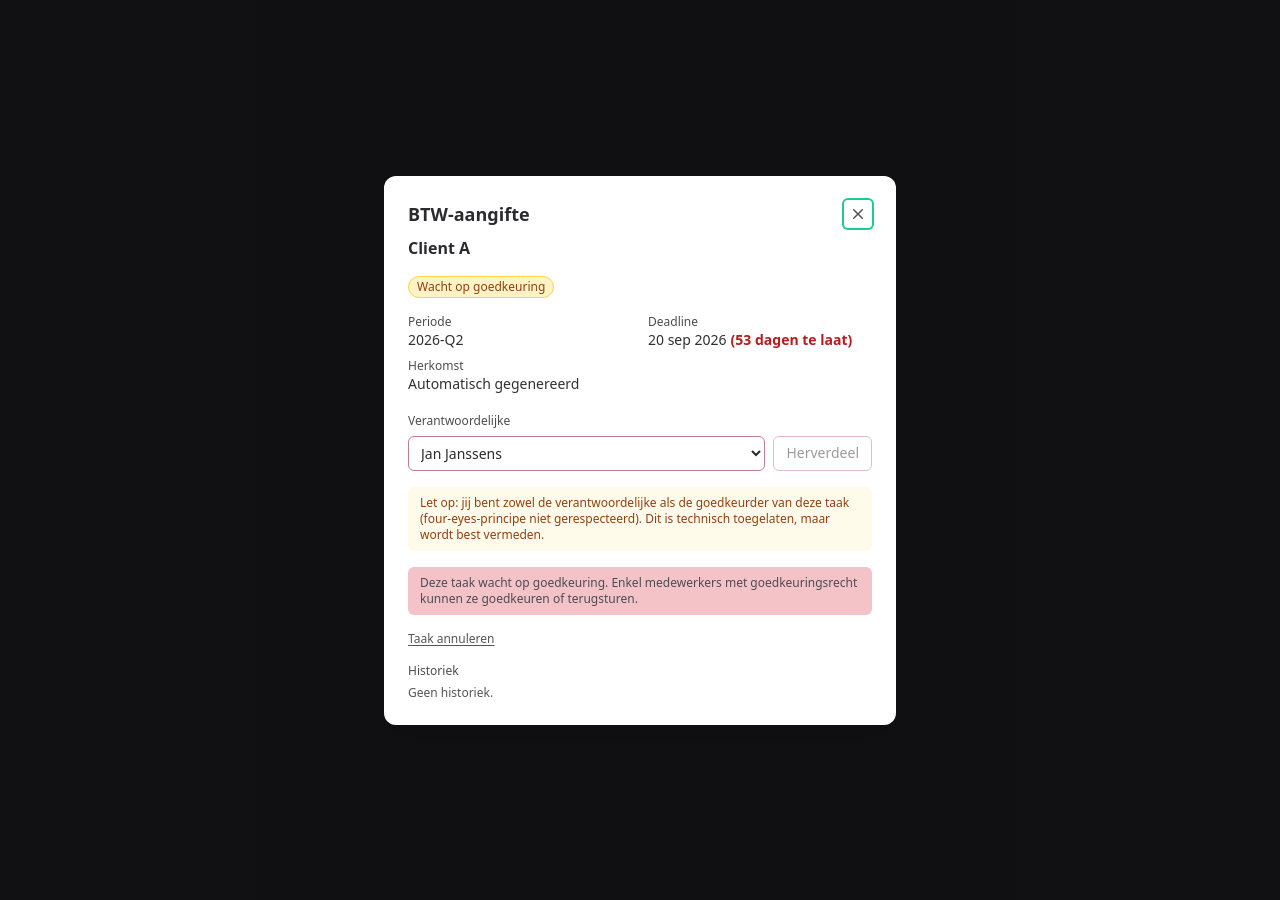
Test: TaskDetailModal — reassignment › disables the Herverdeel button until a different assignee is chosen
The image size is (1280, 900).
Later steps or results of the test are not shown.
Expected: the heading "BTW-aangifte" is shown, [408, 200, 530, 228]
Expected: the button "Herverdeel" is disabled, [773, 436, 872, 470]
Select "Els Peeters" in the dropdown showing "Jan Janssens": (587, 453) [408, 436, 765, 470]
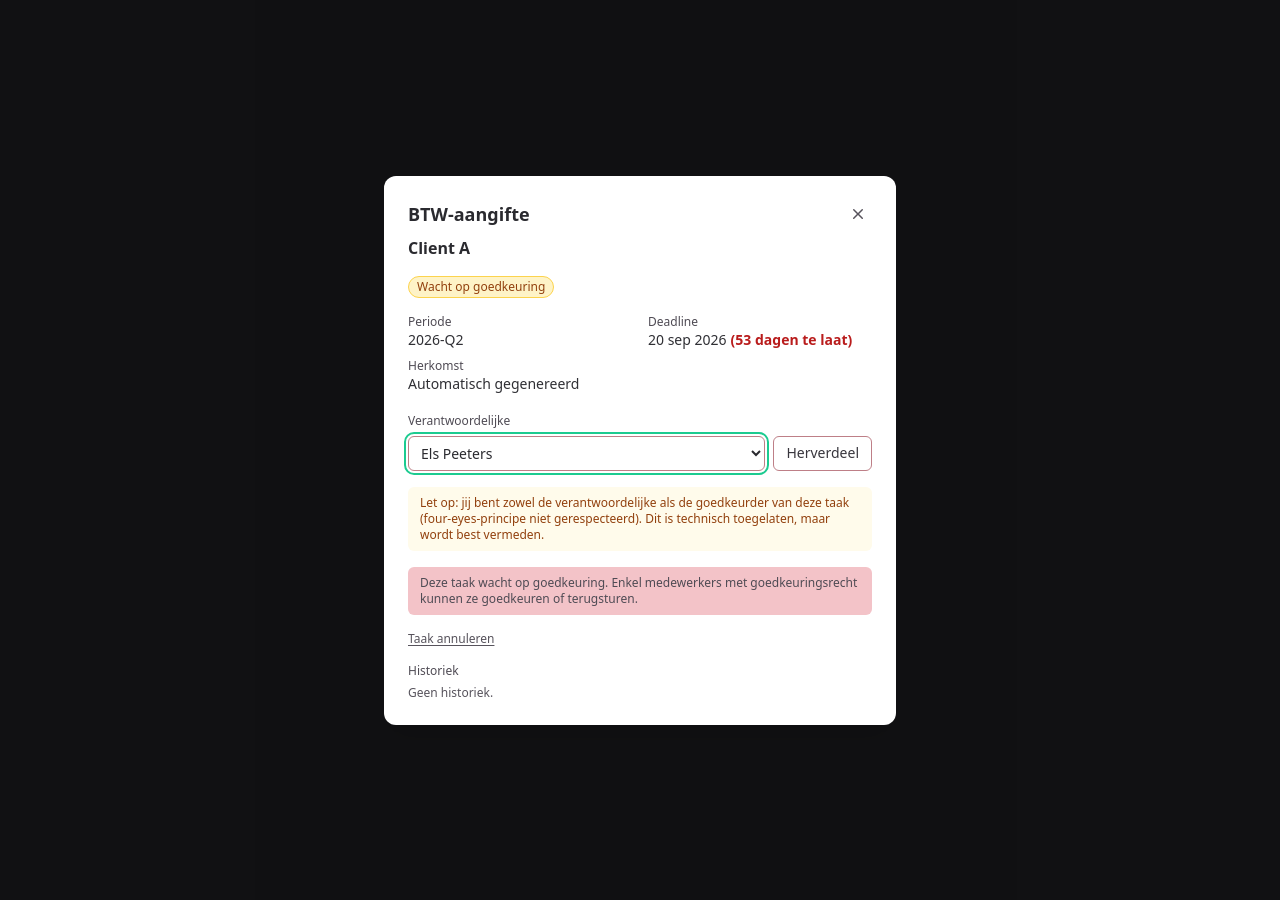
Result: the button "Herverdeel" is enabled at [773, 436, 872, 470]
